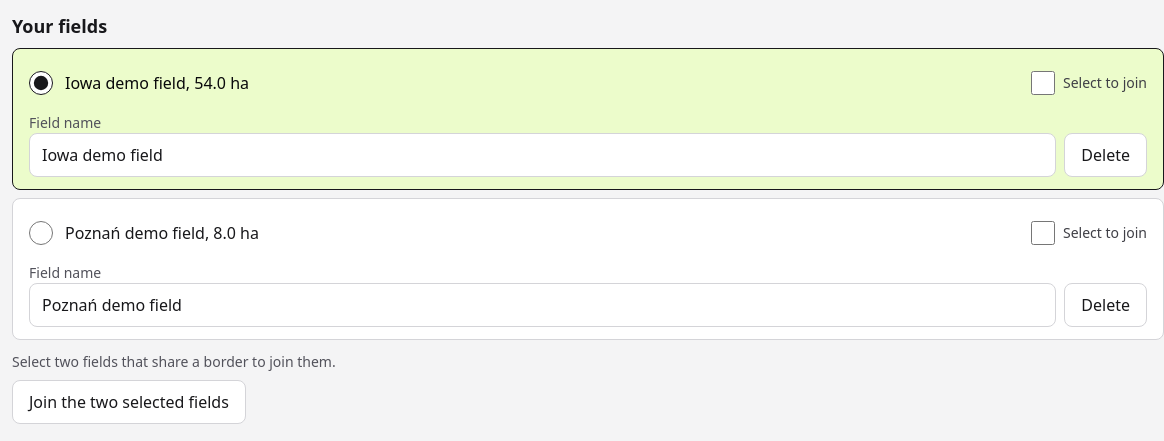
Scenario: FieldList joining › forgets a tick when its field is deleted
This screenshot has width=1164, height=441.
Later steps or results of the test are not shown.
Click the checkbox labelled "Select to join" in the row of "Iowa demo field, 54.0 ha": click(1043, 83) [1031,71,1055,95]
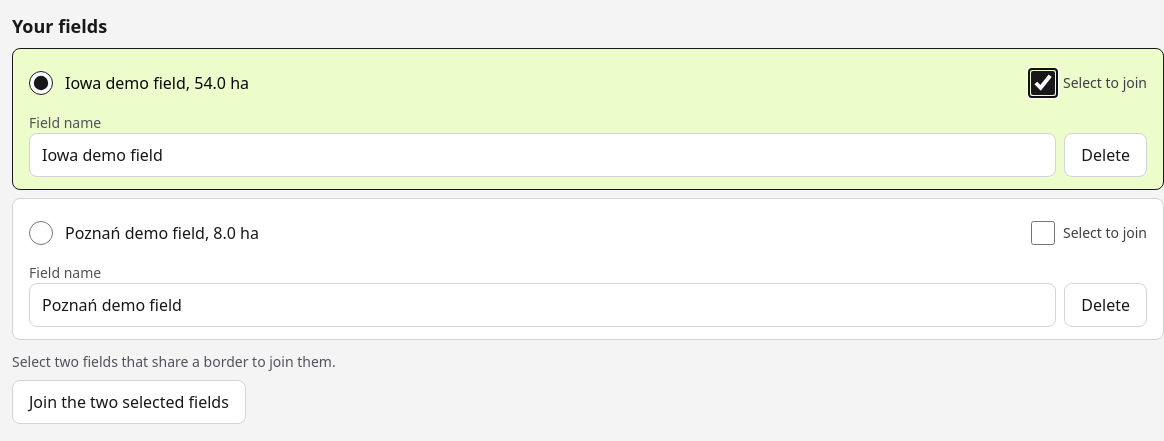
Click the checkbox labelled "Select to join" in the row of "Poznań demo field, 8.0 ha": click(1043, 233) [1031,221,1055,245]
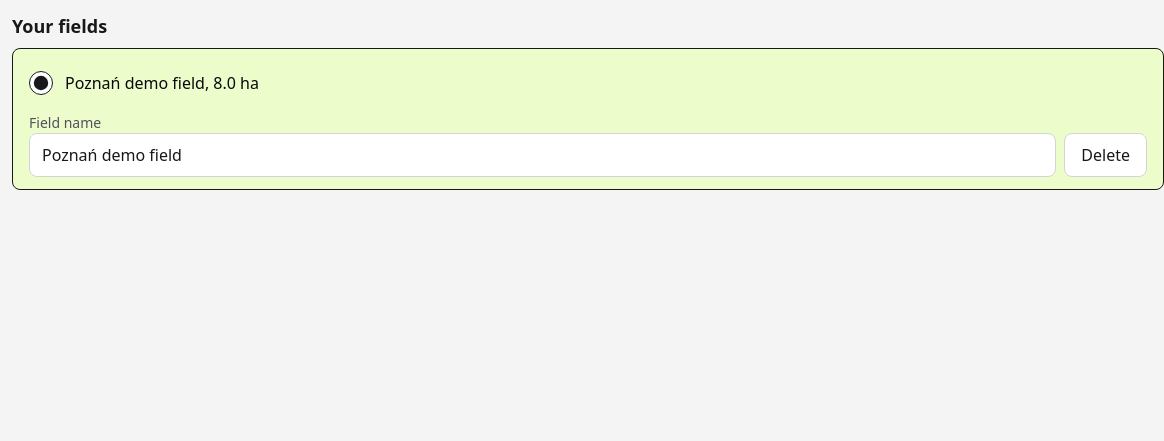
Expected: the button "Join the two selected fields" is gone
